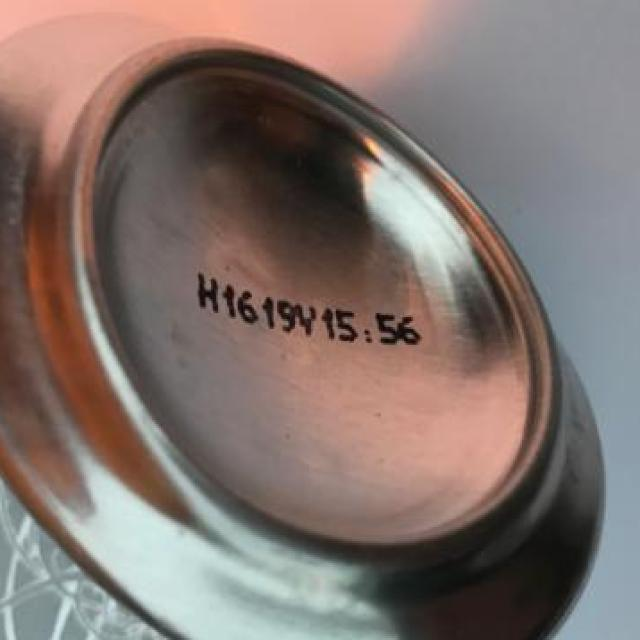organic: (36, 35, 595, 629)
